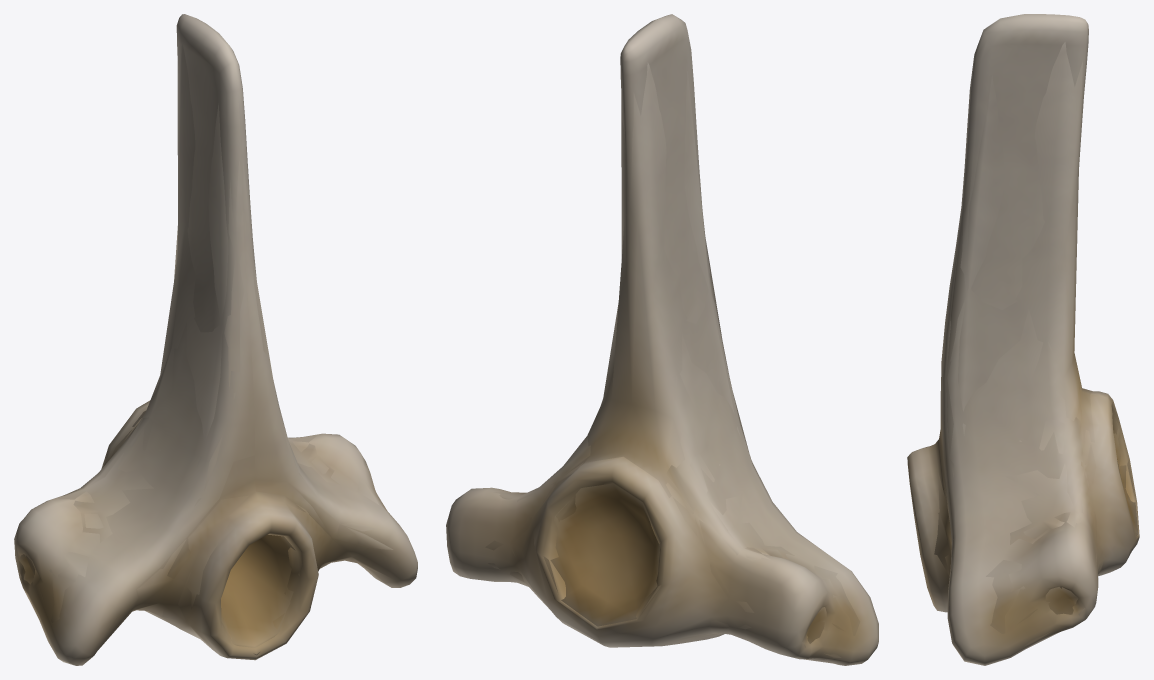
File: vertebrae thoracicae 08.fbx
3 views of the same model, side by side, from view 1: azimuth 30°, elevation 25°; view 2: azimuth 150°, elevation 25°; view 3: azimuth 270°, elevation 25° (orthographic). The views are drawn at different scales.
Visible parts, largest first — view 1: vertebrae thoracicae 08, vertebrae thoracicae 08 low; view 2: vertebrae thoracicae 08, vertebrae thoracicae 08 low; view 3: vertebrae thoracicae 08, vertebrae thoracicae 08 low.
Boxes of the visible parts, box(x1,y1,x2,y2) form: vertebrae thoracicae 08: box(14, 14, 417, 665); vertebrae thoracicae 08 low: box(18, 42, 396, 655); vertebrae thoracicae 08: box(446, 14, 878, 665); vertebrae thoracicae 08 low: box(485, 62, 860, 663); vertebrae thoracicae 08: box(907, 14, 1139, 665); vertebrae thoracicae 08 low: box(934, 42, 1138, 648).
Size of the model in its own units: 5.07 by 8.2 by 2.91.
1 material, 1 textured.
